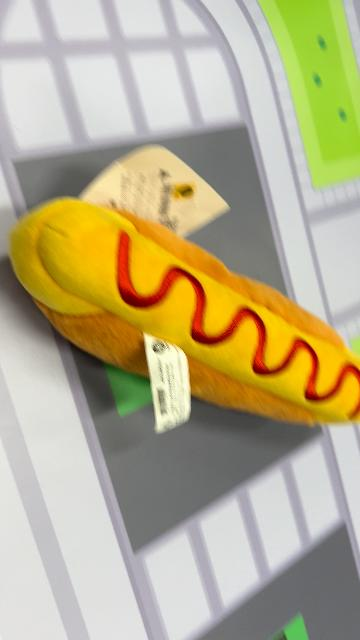hotdog: (8, 195, 360, 429)
